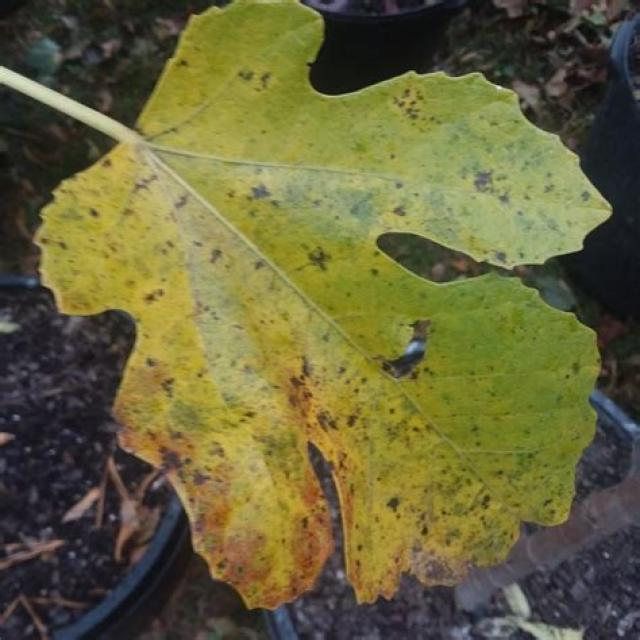blight: (103, 328, 470, 628)
